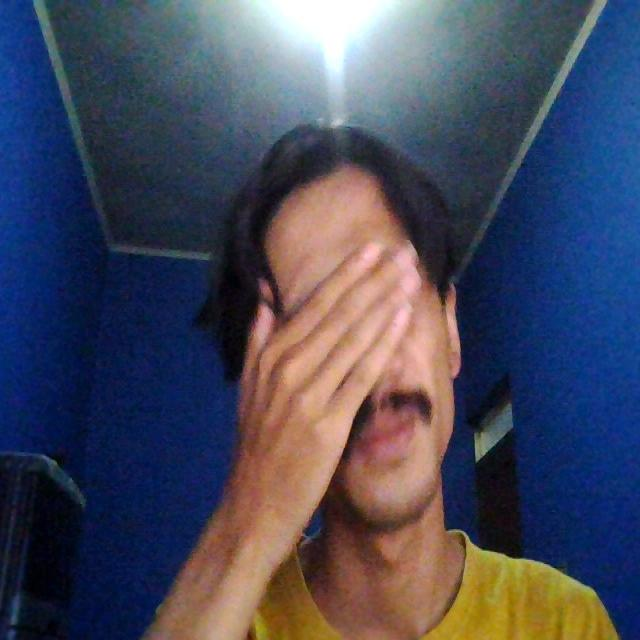movement: (202, 128, 488, 545)
